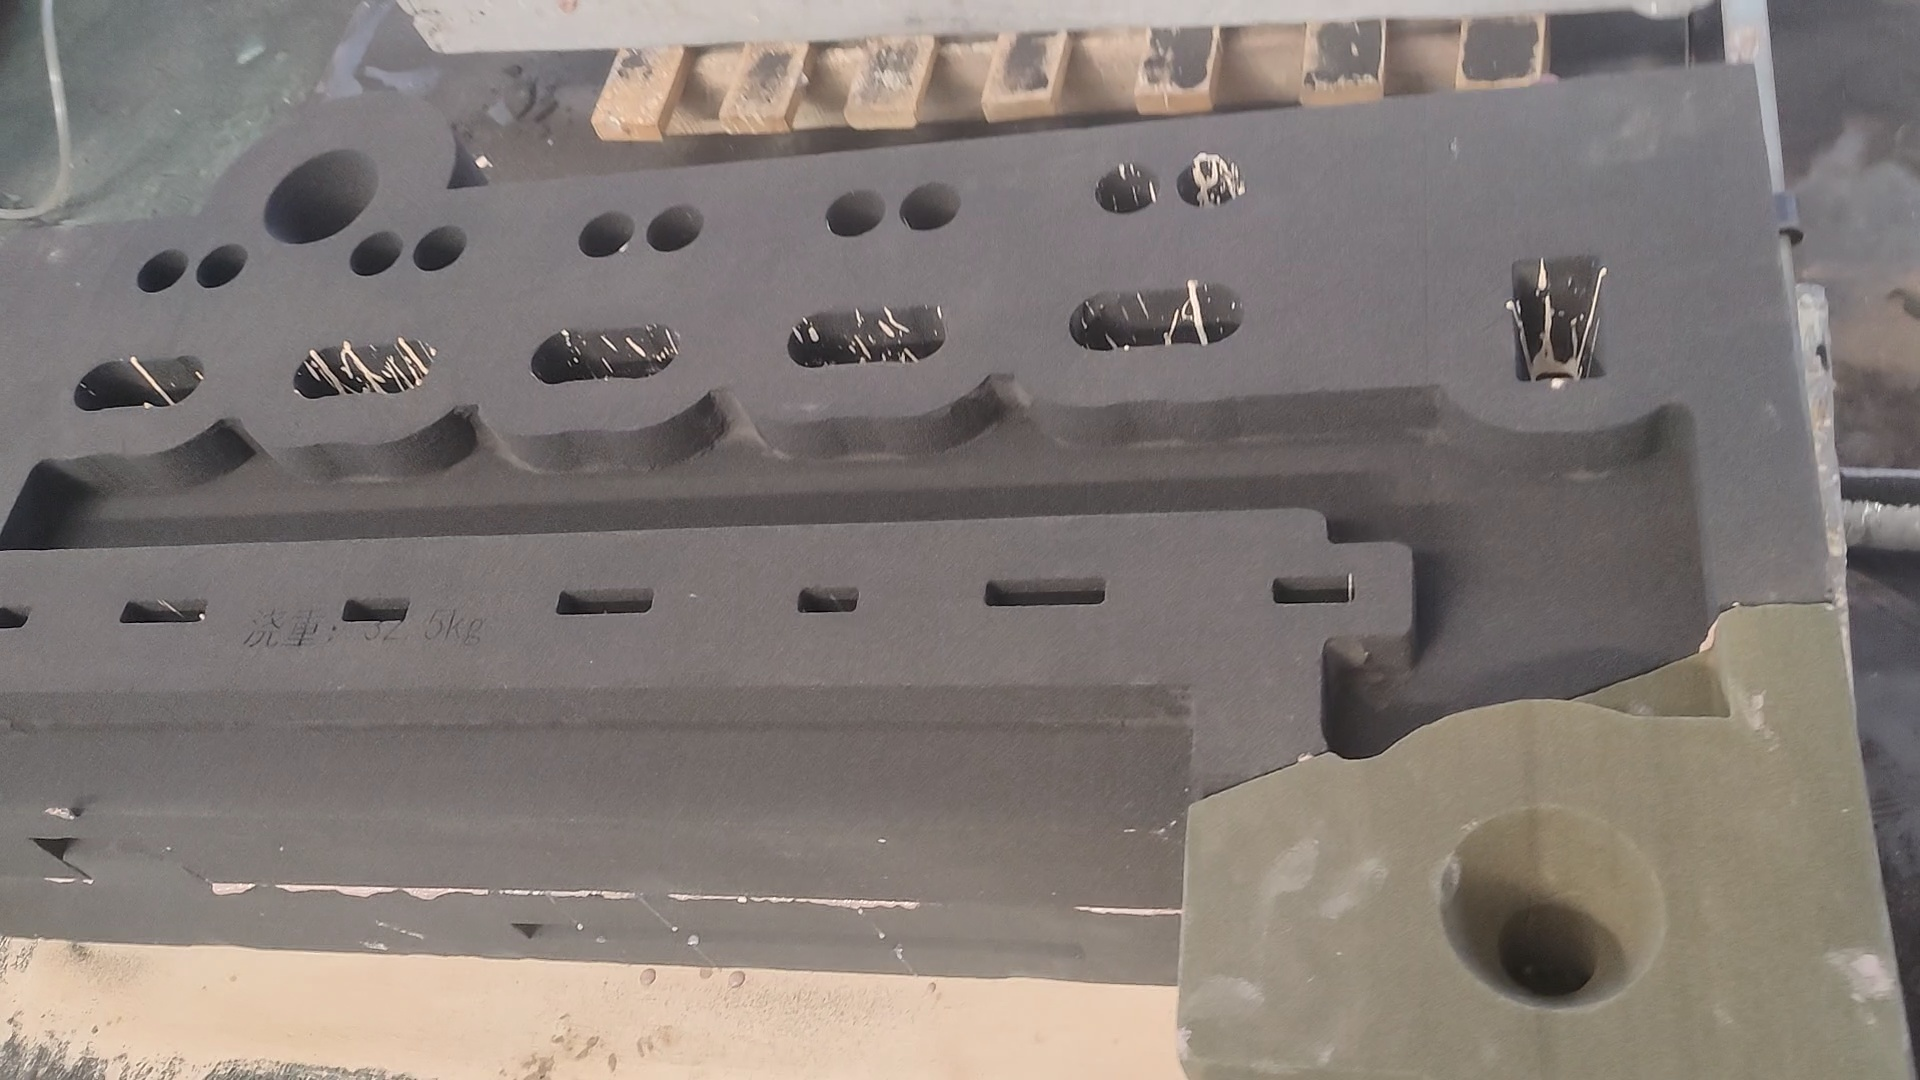pouring hole: (1433, 800, 1667, 1010), (261, 148, 378, 247)
